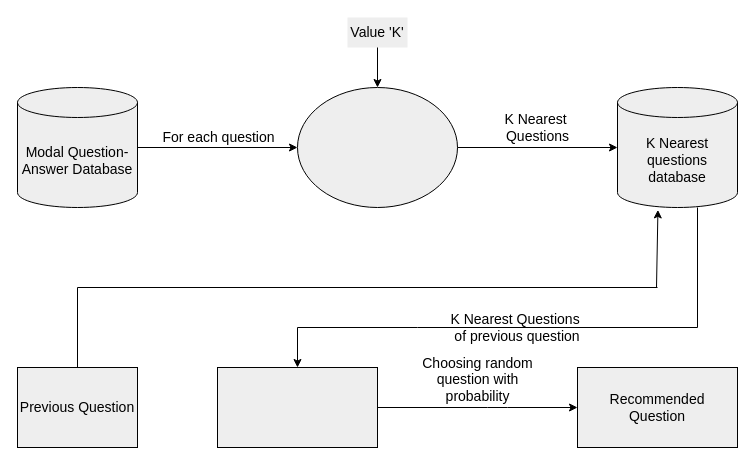
Some shapes in this 755 by 465 pixel diagram are drawn without their labels. Each missing label, with the box of its shape:
Applying KNN Algorithm: (296, 86, 458, 208)
Recommendation System: (216, 366, 378, 448)
